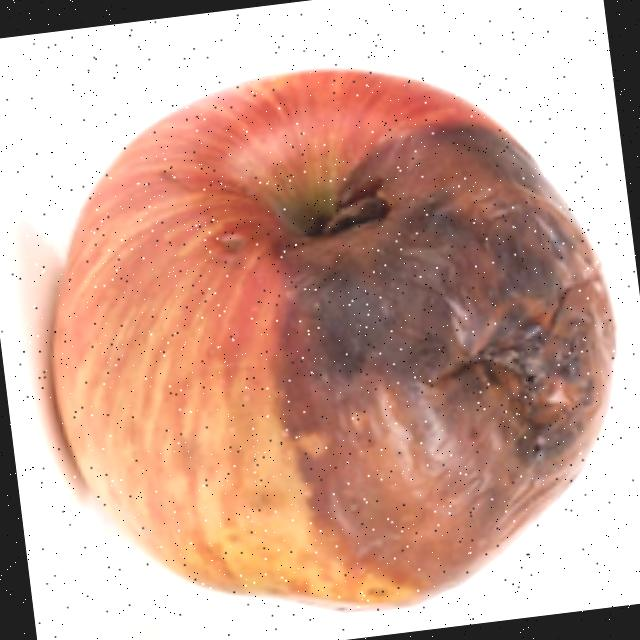Rotten: (11, 27, 640, 640)
